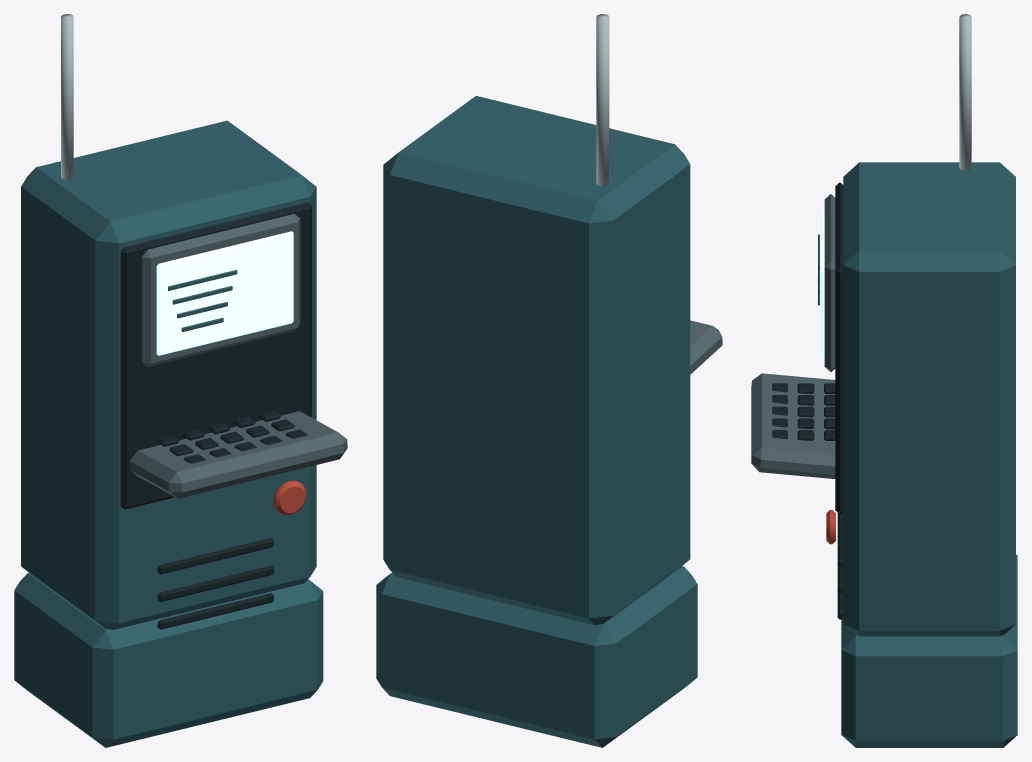
Rendered from relay-terminal.glb.
3 views of the same model, side by side, from view 1: azimuth 30°, elevation 25°; view 2: azimuth 150°, elevation 25°; view 3: azimuth 270°, elevation 25° (orthographic). The views are drawn at different scales.
Parts seen in each view (by area): view 1: Electronics cabinet, Relay pedestal, Inset faceplate, Status display, Keyboard shelf, Screen surround, Antenna, Vent slot, Vent slot.001, Vent slot.002, Emergency stop; view 2: Electronics cabinet, Relay pedestal, Antenna, Keyboard shelf; view 3: Electronics cabinet, Relay pedestal, Keyboard shelf, Inset faceplate, Screen surround, Antenna, Status display.
Boxes of the visible parts, x1,y1,x2,y2 form: Electronics cabinet: (21, 120, 316, 629); Relay pedestal: (14, 573, 323, 747); Inset faceplate: (120, 202, 311, 509); Status display: (156, 231, 293, 355); Keyboard shelf: (129, 411, 347, 498); Screen surround: (142, 214, 300, 366); Antenna: (61, 14, 73, 179); Vent slot: (157, 593, 273, 629); Vent slot.001: (157, 565, 273, 601); Vent slot.002: (157, 538, 273, 574); Emergency stop: (273, 480, 306, 515); Electronics cabinet: (383, 96, 690, 625); Relay pedestal: (376, 566, 697, 747); Antenna: (596, 14, 609, 186); Keyboard shelf: (690, 320, 722, 374); Electronics cabinet: (843, 162, 1015, 636); Relay pedestal: (841, 554, 1017, 747); Keyboard shelf: (751, 373, 835, 478); Inset faceplate: (835, 182, 843, 514); Screen surround: (824, 194, 835, 371); Antenna: (959, 14, 971, 170); Status display: (821, 209, 824, 356).
Bounding box in the file's own units: 0.7 × 1.98 × 0.7405.
